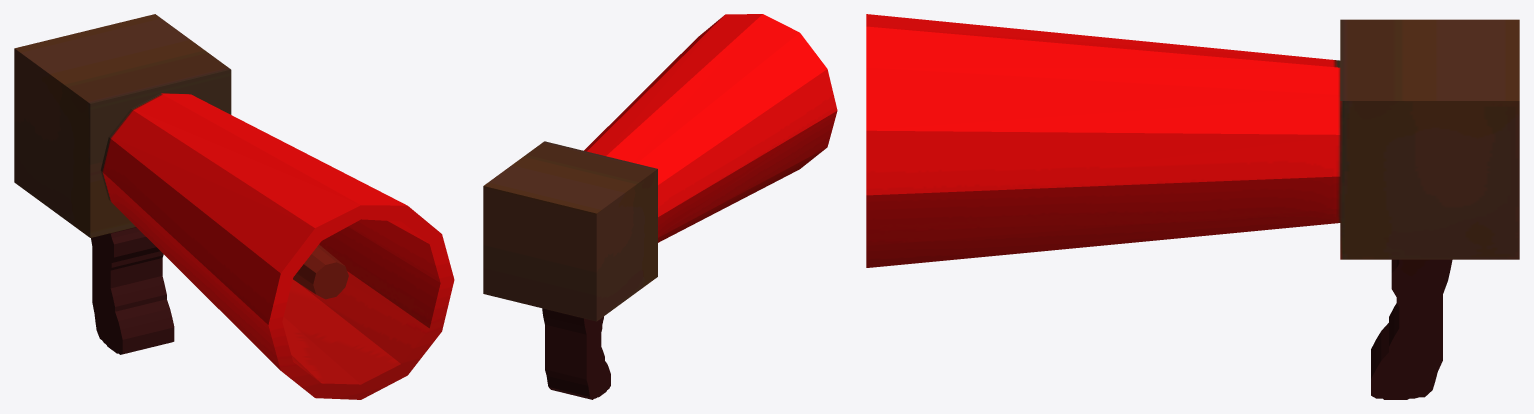
Rendered from MegaPhon.glb.
3 views of the same model, side by side, from view 1: azimuth 30°, elevation 25°; view 2: azimuth 150°, elevation 25°; view 3: azimuth 270°, elevation 25° (orthographic). The views are drawn at different scales.
Visible parts, largest first — view 1: MegaPhon; view 2: MegaPhon; view 3: MegaPhon.
Part boxes in pixels (bbox=[...]): MegaPhon: bbox=[14, 14, 454, 399]; MegaPhon: bbox=[483, 14, 837, 399]; MegaPhon: bbox=[866, 14, 1519, 399].
Bounding box in the file's own units: 107 × 167 × 276.
1 material, 1 textured.
